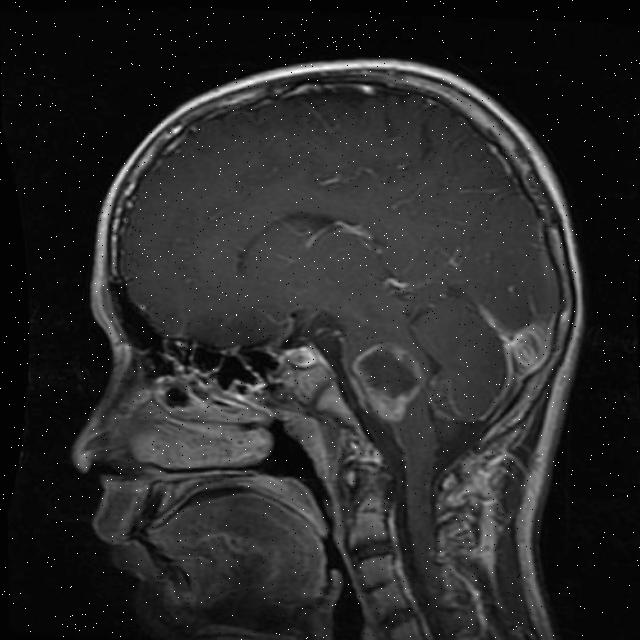Glioma: (349, 339, 428, 424)
